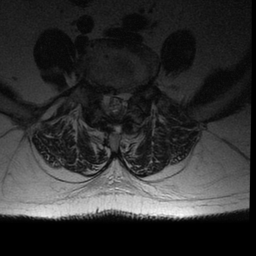CCS_normal: (110, 84, 118, 125)
LFS_severe_stenosis: (128, 78, 139, 104)
LLS_normal: (118, 83, 128, 121)
RFS_severe_stenosis: (90, 78, 100, 103)
RLS_normal: (100, 84, 109, 119)
